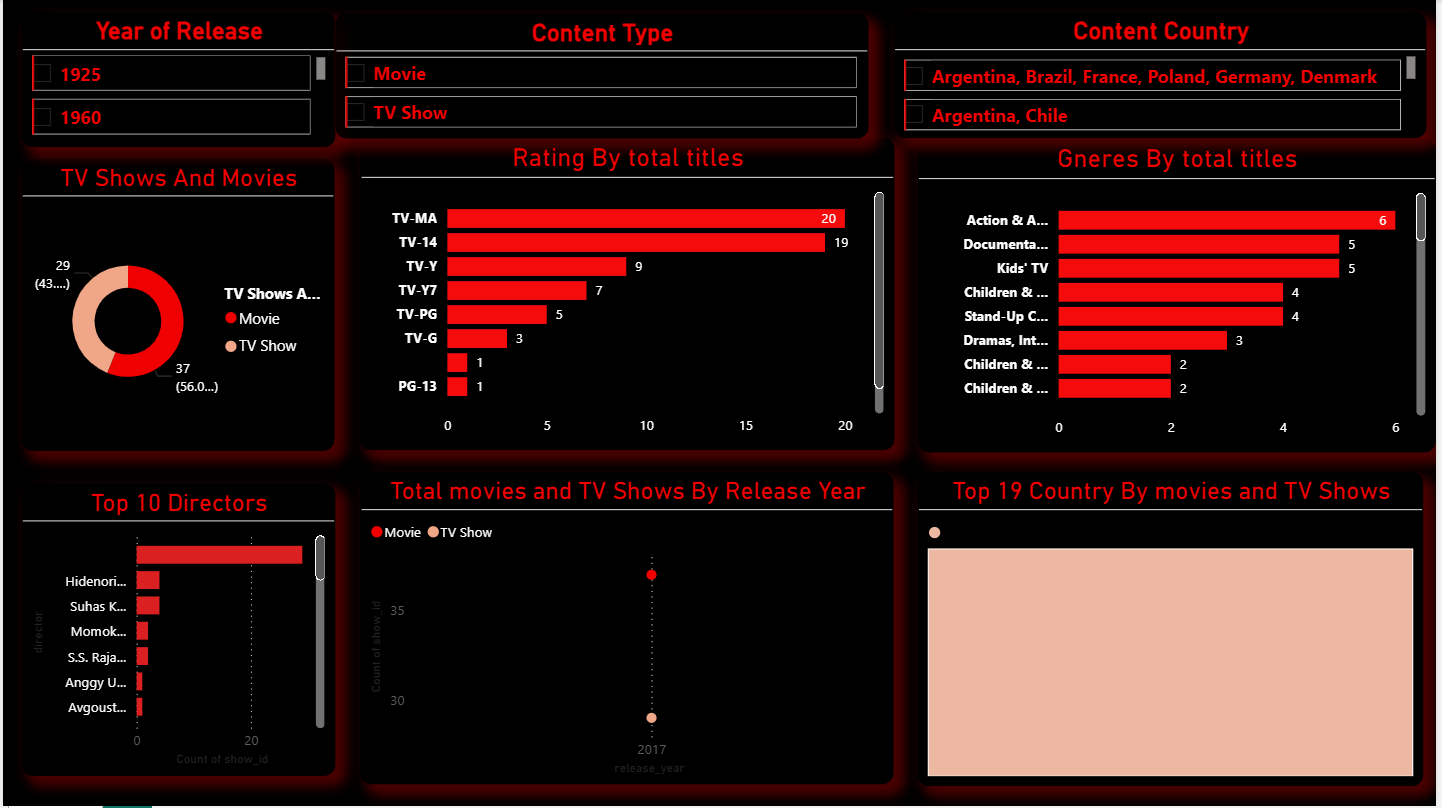

This screenshot's page, from the dashboard's own definition file:
{"tool":"powerbi","page":{"name":"Page 1","canvas":[1280,720],"ordinal":0},"visuals":[{"type":"donutChart","title":"TV Shows And Movies","fields":{"Y":["CountNonNull(netflix_titles[1].show_id)"],"Category":["netflix_titles[1].type"]},"box":[16.3,141.9,279.1,260.5],"z":0},{"type":"barChart","title":"Rating By total titles","fields":{"Category":["netflix_titles[1].rating"],"Y":["CountNonNull(netflix_titles[1].show_id)"]},"box":[319.8,123.3,476.7,279.1],"z":1000},{"type":"barChart","title":"Gneres By total titles","fields":{"Y":["Count(netflix_titles[1].show_id)"],"Category":["netflix_titles[1].listed_in"]},"box":[817.8,123.5,462.4,279.9],"z":2000},{"type":"areaChart","title":"Total movies and TV Shows By Release Year","fields":{"Y":["Count(netflix_titles[1].show_id)"],"Category":["netflix_titles[1].release_year"],"Series":["netflix_titles[1].type"]},"box":[319.7,422.6,476.2,278.6],"z":3000},{"type":"treemap","title":"Top 19 Country  By movies and TV Shows","fields":{"Group":["netflix_titles[1].country"],"Values":["Count(netflix_titles[1].show_id)"]},"box":[817.8,422.6,451.5,279.9],"z":4000},{"type":"barChart","title":"Top 10 Directors","fields":{"Category":["netflix_titles[1].director"],"Y":["CountNonNull(netflix_titles[1].show_id)"]},"box":[16.5,432.2,279.9,260.7],"z":5000},{"type":"listSlicer","title":"Year of Release","fields":{"Values":["netflix_titles[1].release_year"]},"box":[16.3,11.6,280.2,119.8],"z":6000},{"type":"listSlicer","title":"Content Type","fields":{"Values":["netflix_titles[1].type"]},"box":[320.9,11.6,475.6,111.6],"z":6001},{"type":"listSlicer","title":"Content Country","fields":{"Values":["netflix_titles[1].country"]},"box":[796.5,11.6,475.6,111.6],"z":6002}]}

Visuals, with their boxes in screenshot pixels (x1, y1, x2, y2), scaled from the page's 1280x720 canvas onto the 1442x808 screenshot:
"TV Shows And Movies" donutChart: [x1=18, y1=159, x2=333, y2=452]
"Rating By total titles" barChart: [x1=360, y1=138, x2=897, y2=452]
"Gneres By total titles" barChart: [x1=921, y1=139, x2=1441, y2=453]
"Total movies and TV Shows By Release Year" areaChart: [x1=360, y1=474, x2=897, y2=787]
"Top 19 Country  By movies and TV Shows" treemap: [x1=921, y1=474, x2=1430, y2=788]
"Top 10 Directors" barChart: [x1=19, y1=485, x2=334, y2=778]
"Year of Release" listSlicer: [x1=18, y1=13, x2=334, y2=147]
"Content Type" listSlicer: [x1=362, y1=13, x2=897, y2=138]
"Content Country" listSlicer: [x1=897, y1=13, x2=1433, y2=138]
